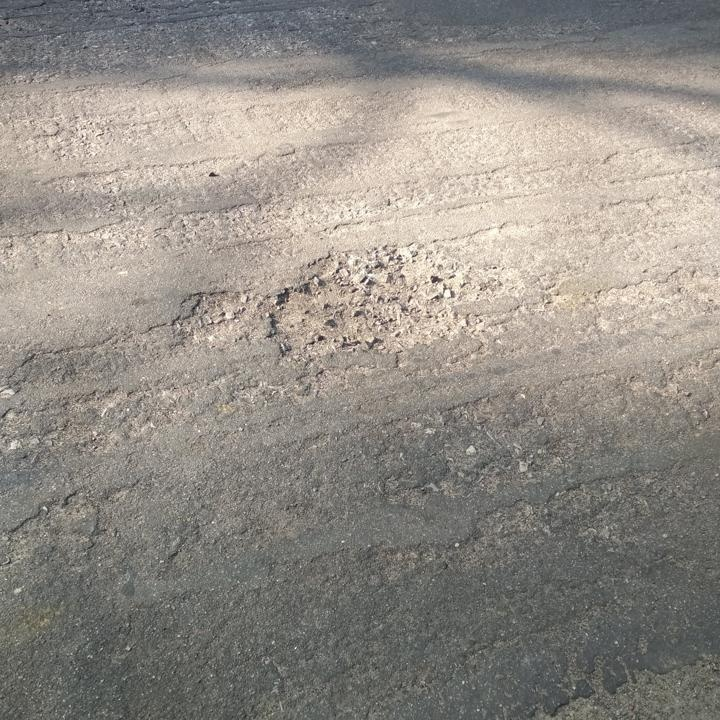pothole: (264, 248, 466, 355), (175, 285, 265, 348)
